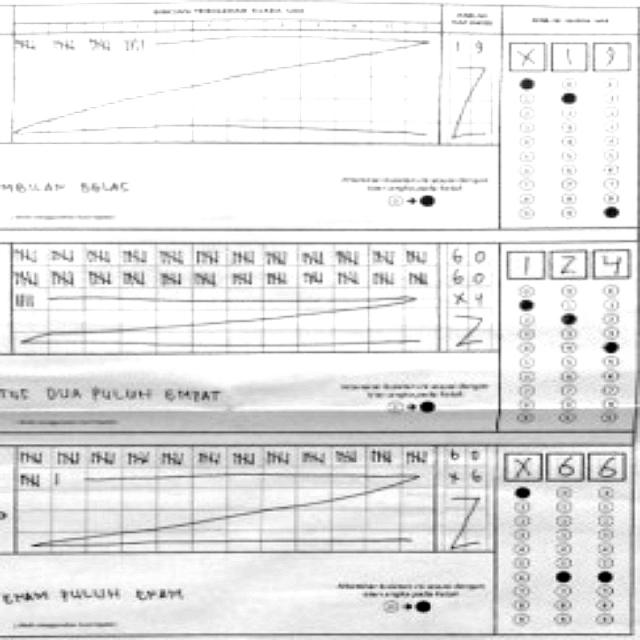Suara: (498, 446, 626, 484), (507, 34, 633, 72), (501, 248, 630, 280)
